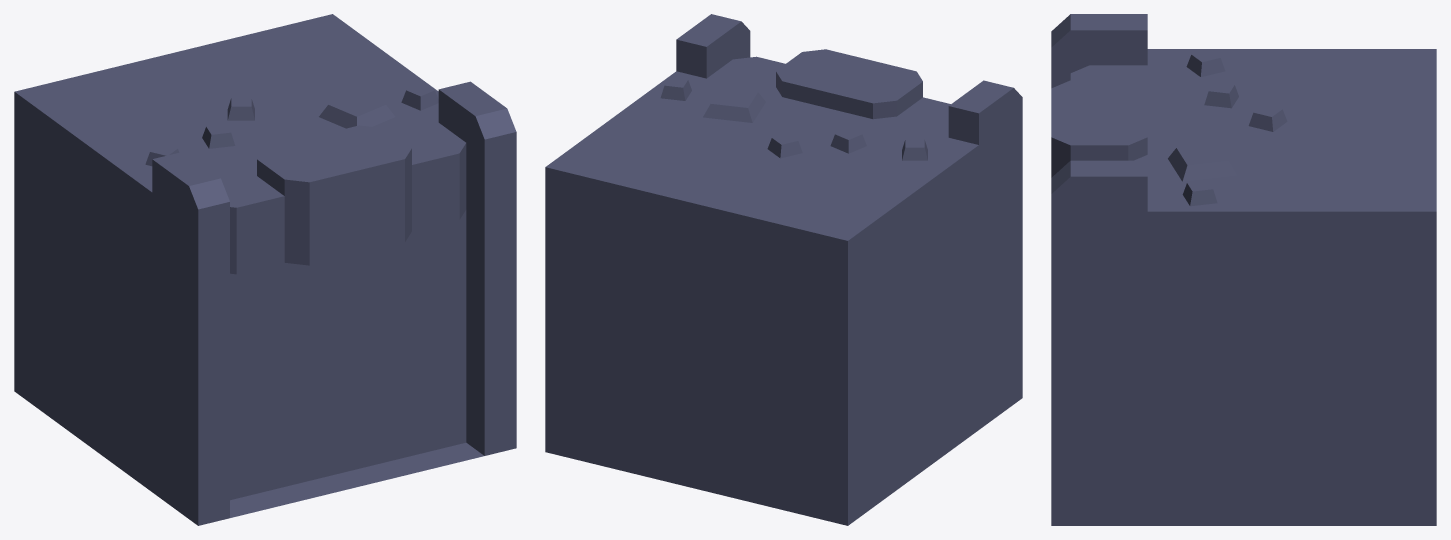
Rendered from kenney_mini-dungeon__wall-half__cave.fbx.
The picture shows the model from 3 angles, left to right: view 1: azimuth 30°, elevation 25°; view 2: azimuth 150°, elevation 25°; view 3: azimuth 270°, elevation 25°; orthographic projection. The views are drawn at different scales.
Visible parts, largest first — view 1: kenney_mini-dungeon__wall-half__cave_stone; view 2: kenney_mini-dungeon__wall-half__cave_stone; view 3: kenney_mini-dungeon__wall-half__cave_stone.
Part boxes in pixels (x1,y1,x2,y2): kenney_mini-dungeon__wall-half__cave_stone: (14,14,516,525); kenney_mini-dungeon__wall-half__cave_stone: (545,14,1022,525); kenney_mini-dungeon__wall-half__cave_stone: (1051,14,1436,525).
Size of the model in its own units: 3.57 by 3.57 by 3.57.
Materials: 1 (1 with a texture image).
